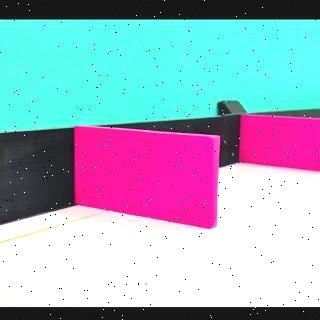xparking: (78, 141, 214, 226), (246, 122, 317, 168)
